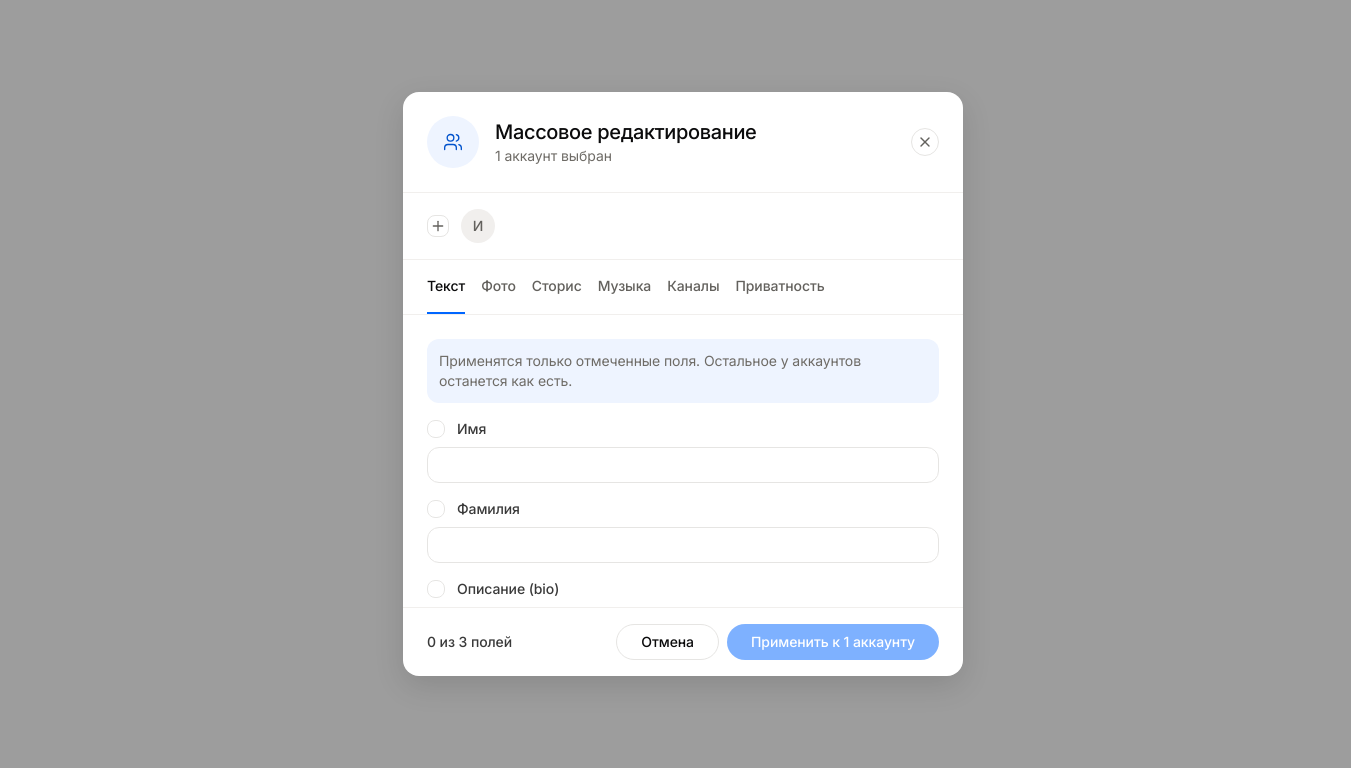
Test case: a refused account does not abandon the rest of the batch
This screenshot has width=1366, height=768.
Click the button named "Добавить аккаунты": (438, 226) [427,215,449,237]
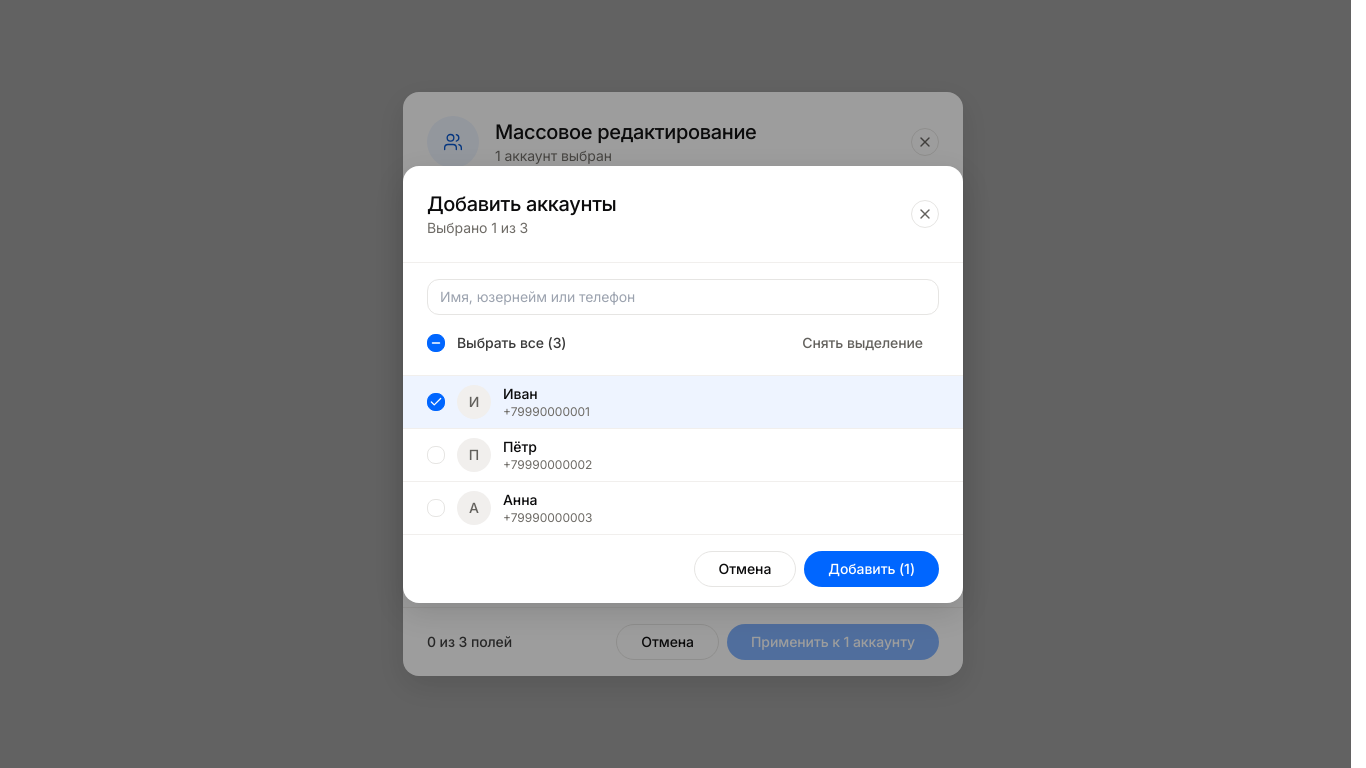
Check: the checkbox labelled "Выбрать все (3)" is shown
Click the checkbox labelled "Выбрать все (3)": (497, 342) [427,332,566,352]
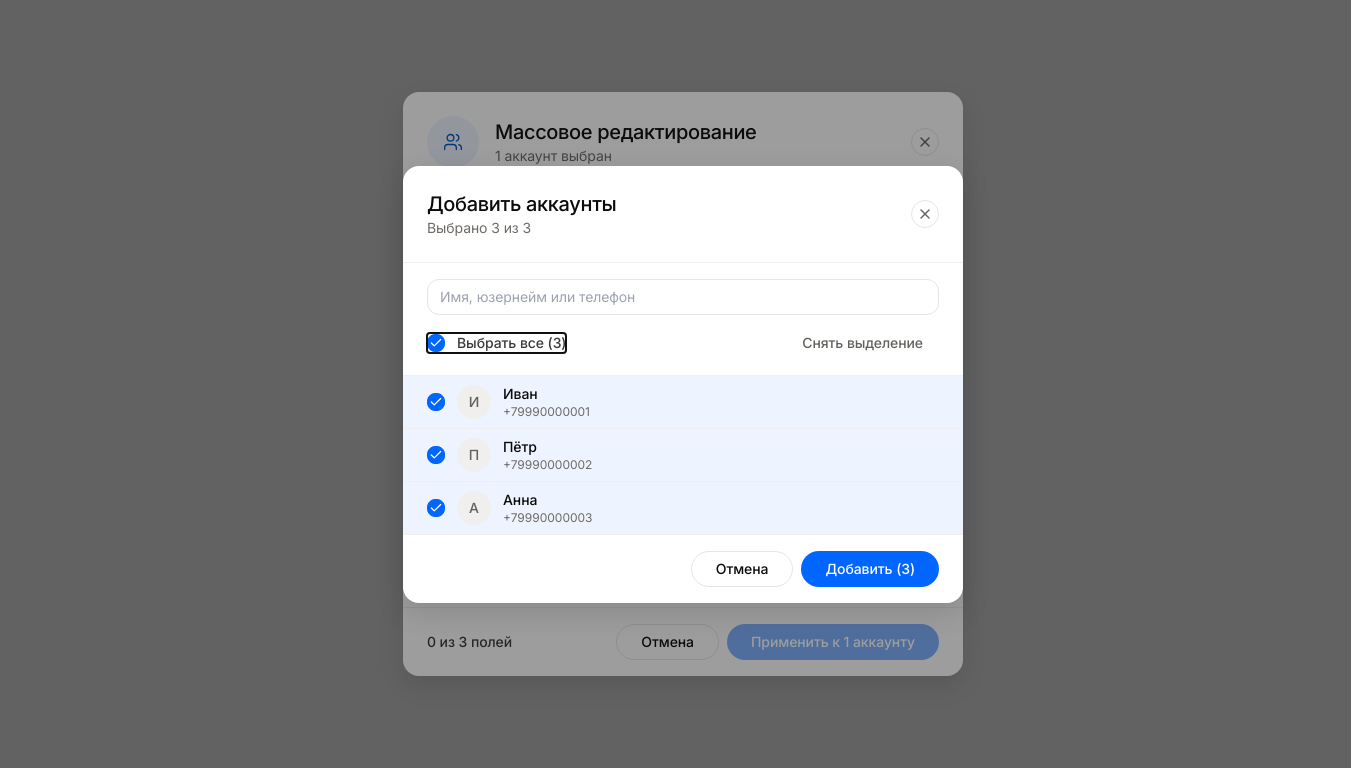
Click the button "Добавить (3)": (870, 568) [801,550,939,586]
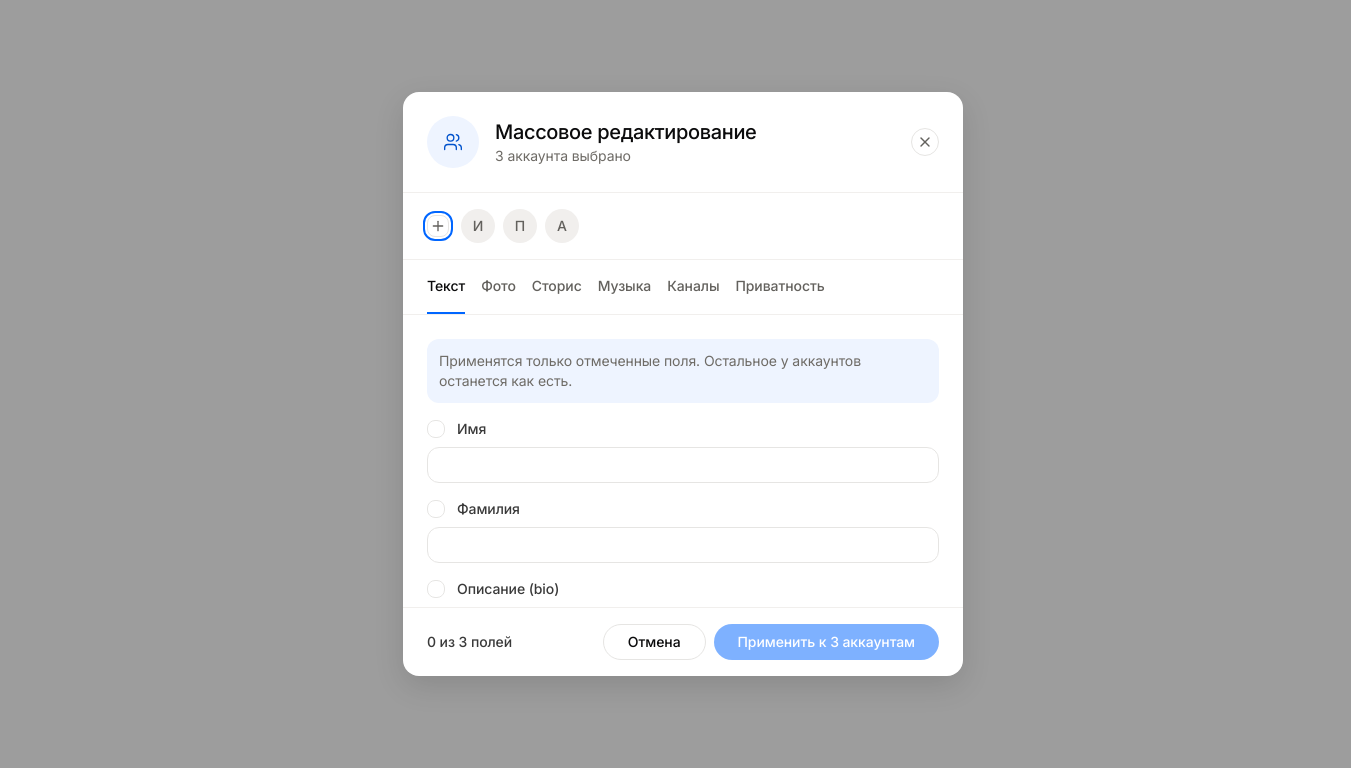
Click the checkbox labelled "Имя": (436, 429) [427,419,939,439]
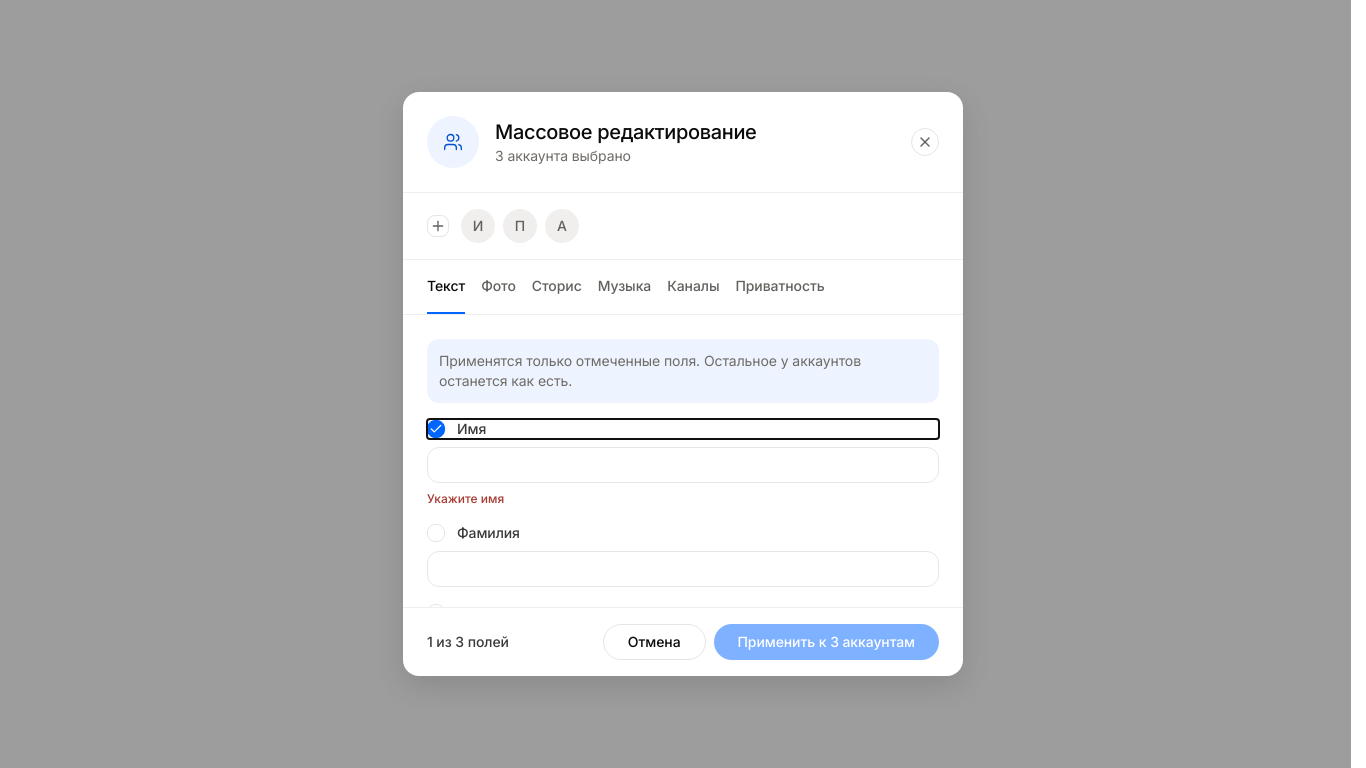
In the field named "Имя": (683, 465) [427,447,939,483], type "Алекс"
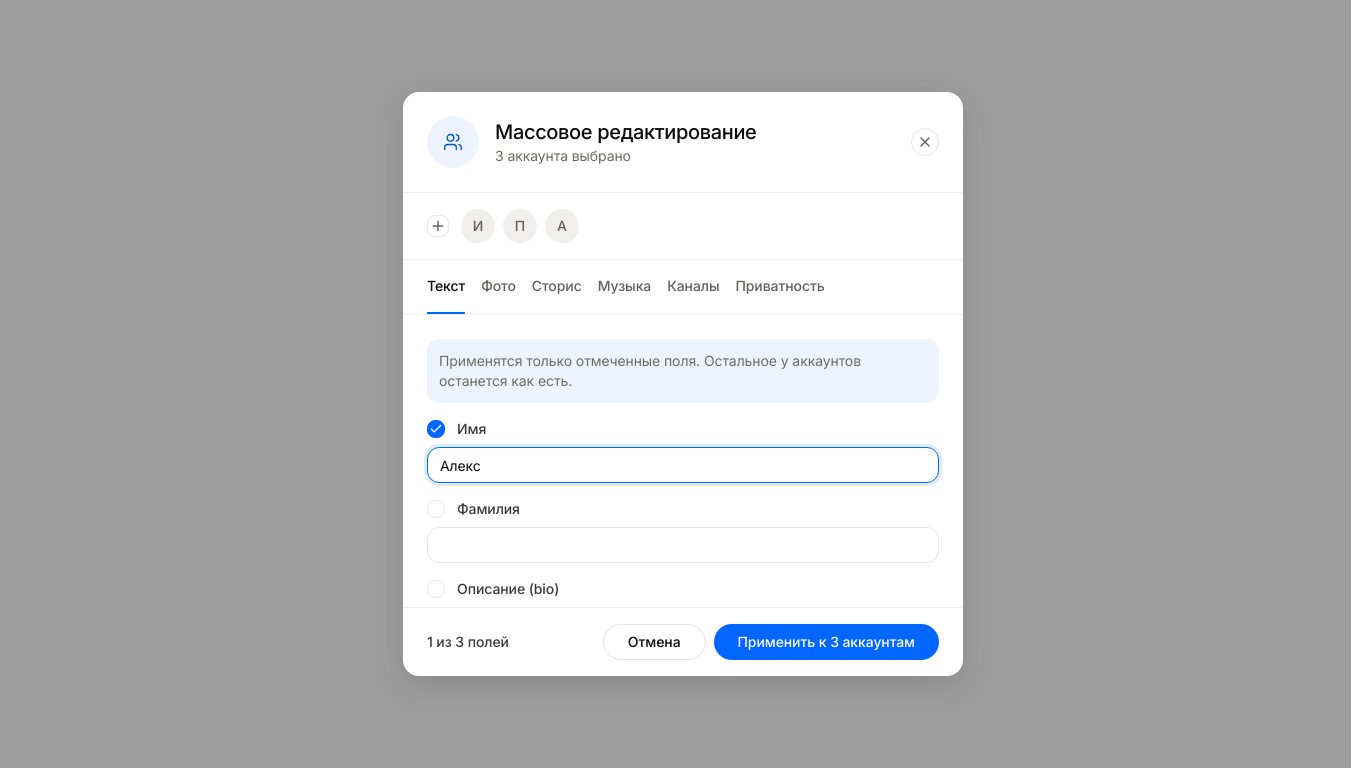
Click the button "Применить к 3 аккаунтам": (826, 642) [714,624,939,660]
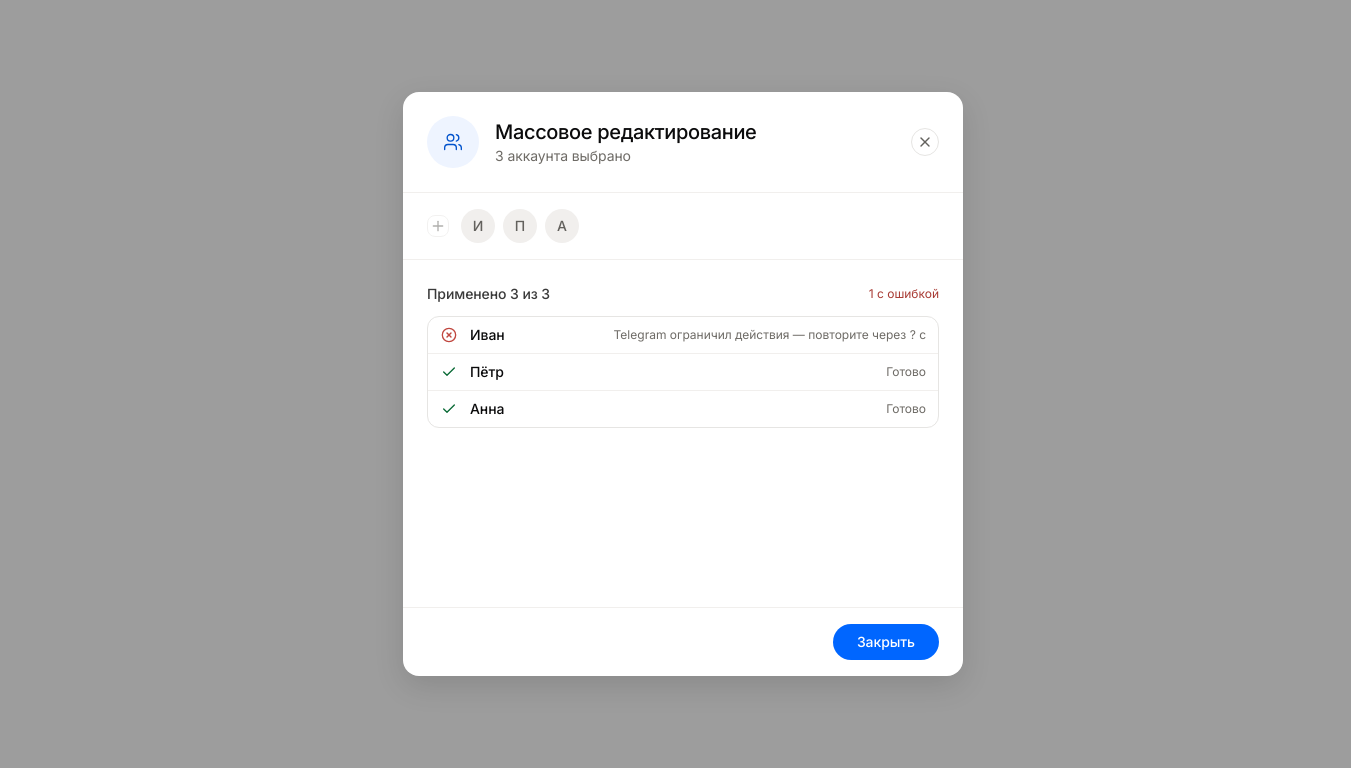
Check: the text "Применено 3 из 3" is shown, box [427,284,550,304]
Check: the text "1 с ошибкой" is shown, box [869,286,939,302]
